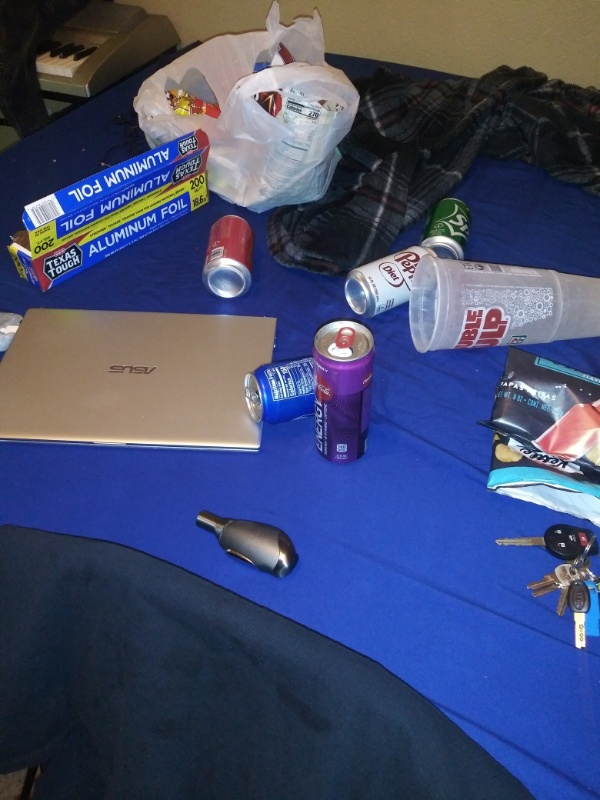can: (306, 319, 376, 467), (344, 245, 439, 320), (239, 355, 330, 428), (201, 211, 261, 304), (418, 192, 476, 261)
